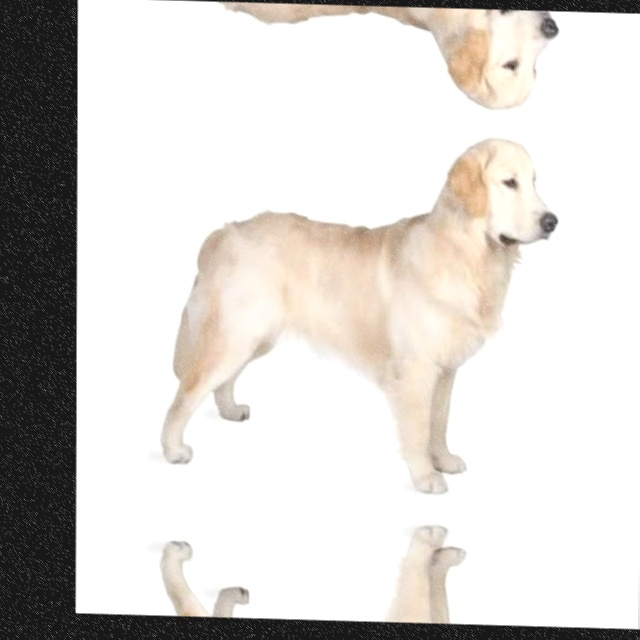dog: (91, 118, 563, 500), (93, 0, 564, 119), (91, 512, 563, 628)
